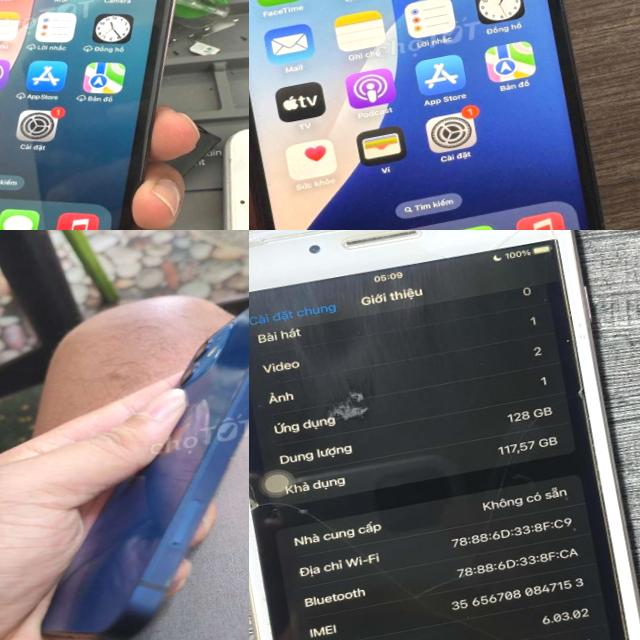gen_11: (249, 0, 633, 230)
gen_12_13: (0, 264, 249, 640)
gen_6: (249, 230, 640, 640)
gen_x_xs: (0, 0, 174, 230)
